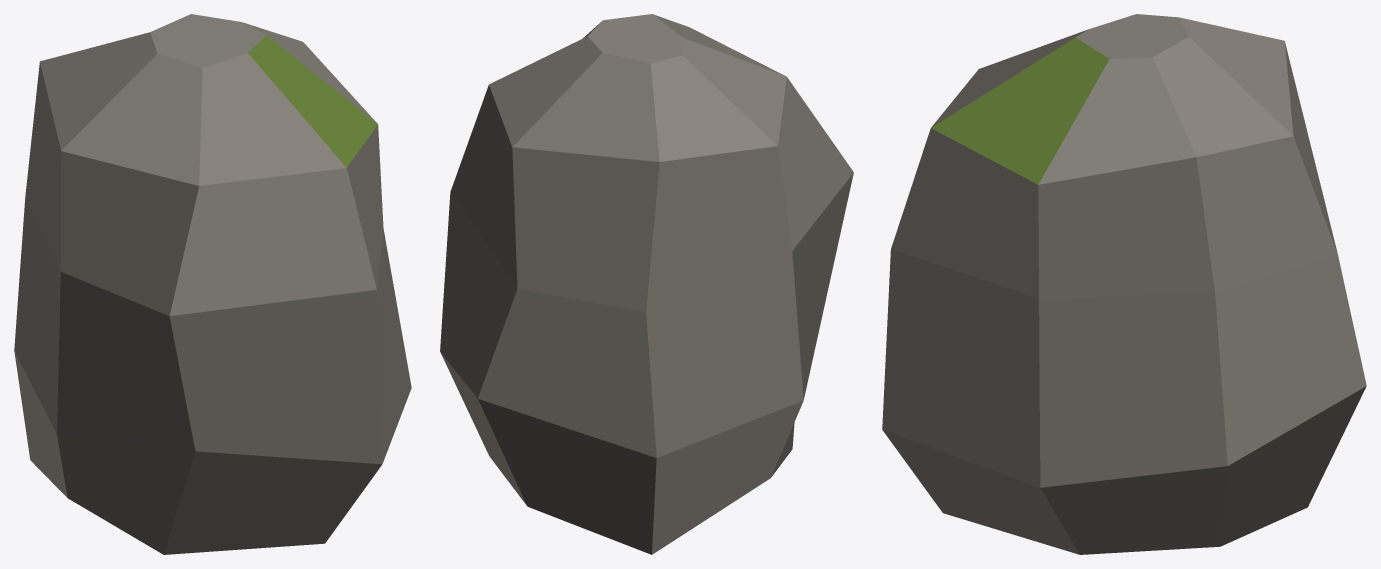
Rendered from rock_b.glb.
3 views of the same model, side by side, from view 1: azimuth 30°, elevation 25°; view 2: azimuth 150°, elevation 25°; view 3: azimuth 270°, elevation 25° (orthographic). The views are drawn at different scales.
Visible parts, largest first — view 1: rock_b; view 2: rock_b; view 3: rock_b.
Boxes of the visible parts, x1,y1,x2,y2 form: rock_b: (14, 14, 411, 554); rock_b: (440, 14, 853, 554); rock_b: (882, 14, 1366, 554).
Bounding box in the file's own units: 0.867 × 1.18 × 1.07.
